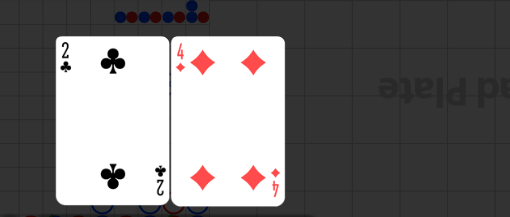2C: (59, 41, 73, 75)
4D: (269, 166, 282, 198)
